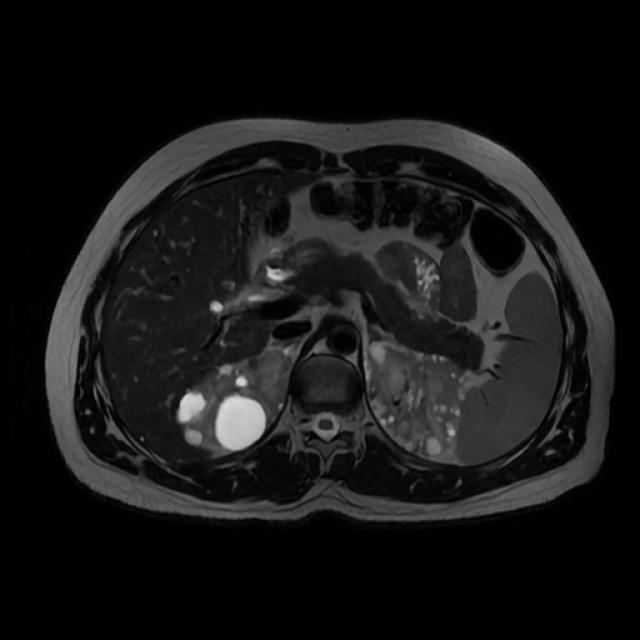sag: (176, 348, 296, 453)
sol: (366, 340, 471, 463)
